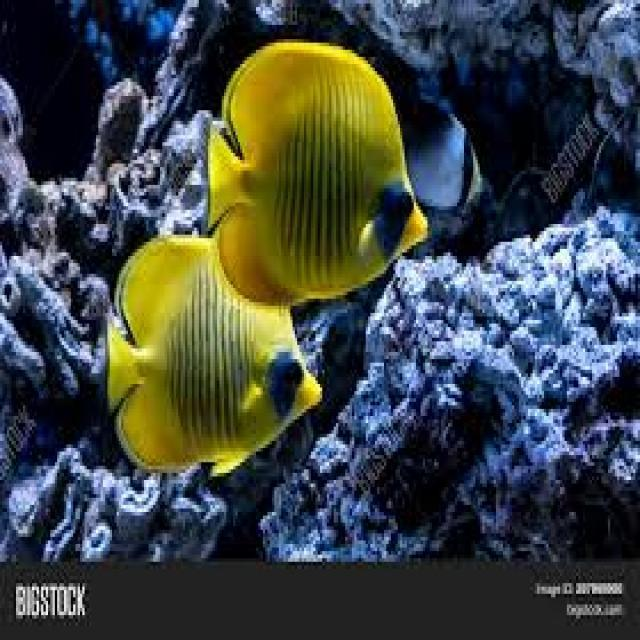ButterflyFish: (203, 36, 432, 304), (104, 239, 321, 478)
